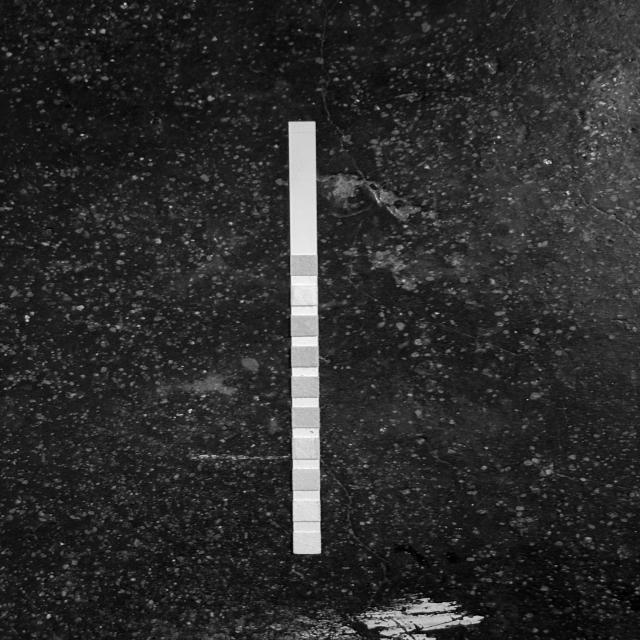Bilirubin: (292, 285, 317, 306)
Blood: (293, 408, 318, 428)
Glucose: (291, 255, 317, 276)
Ketone: (292, 315, 318, 336)
Leukocytes: (294, 533, 320, 553)
Nitrite: (294, 500, 320, 521)
Protein: (292, 347, 318, 366)
SpGravity: (294, 438, 318, 458)
Urobilinogen: (294, 470, 320, 490)
background: (0, 0, 640, 640)
pH: (293, 376, 318, 396)
strip: (288, 121, 322, 554)
